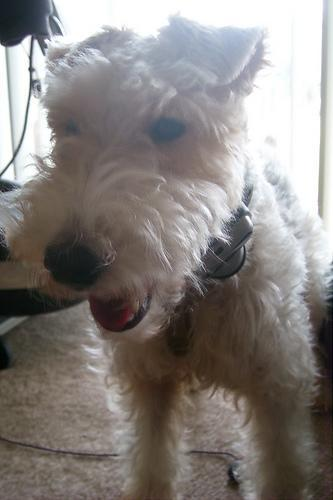wire-haired_fox_terrier: (11, 13, 331, 498)
